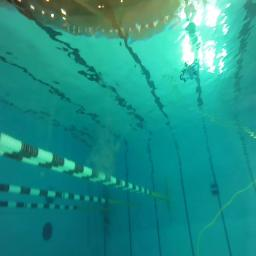Full: (209, 187, 219, 197)
